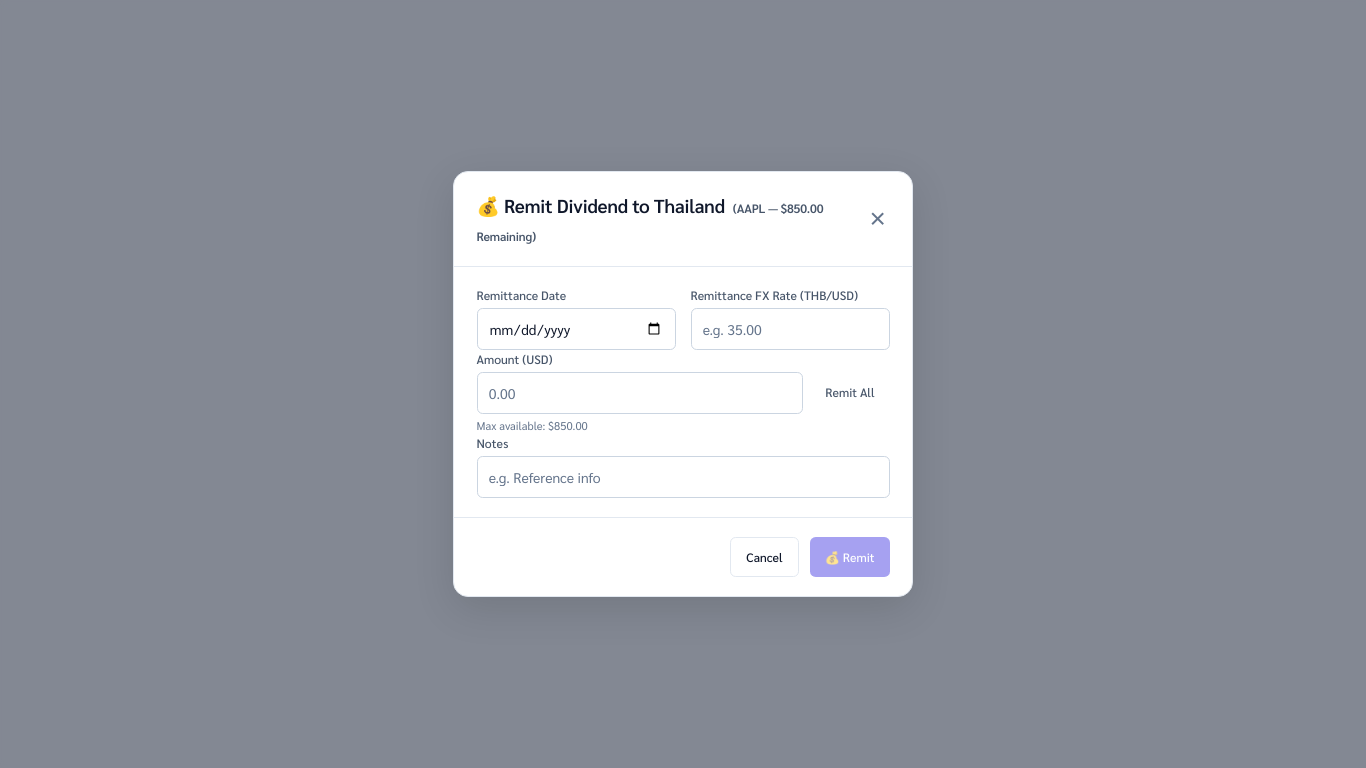
Test case: DividendRemitForm pre-flight and close behaviour › shows the engine reason and does not submit when the amount exceeds the balance
Type "900" into the number field with id "dremit-amount" at point(640, 393), box 476,372 -> 803,414
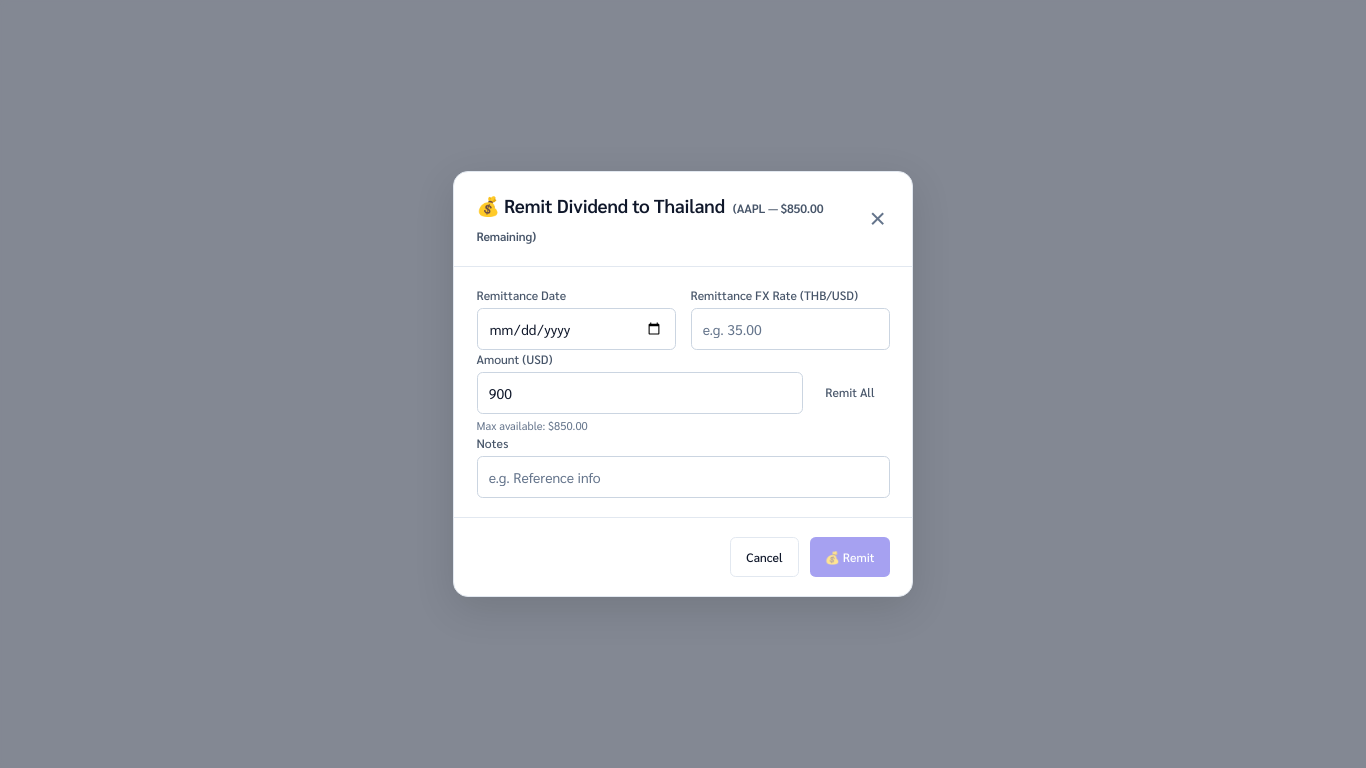
Type "35" into the number field with id "dremit-fx" at point(790, 329), box 690,308 -> 890,350
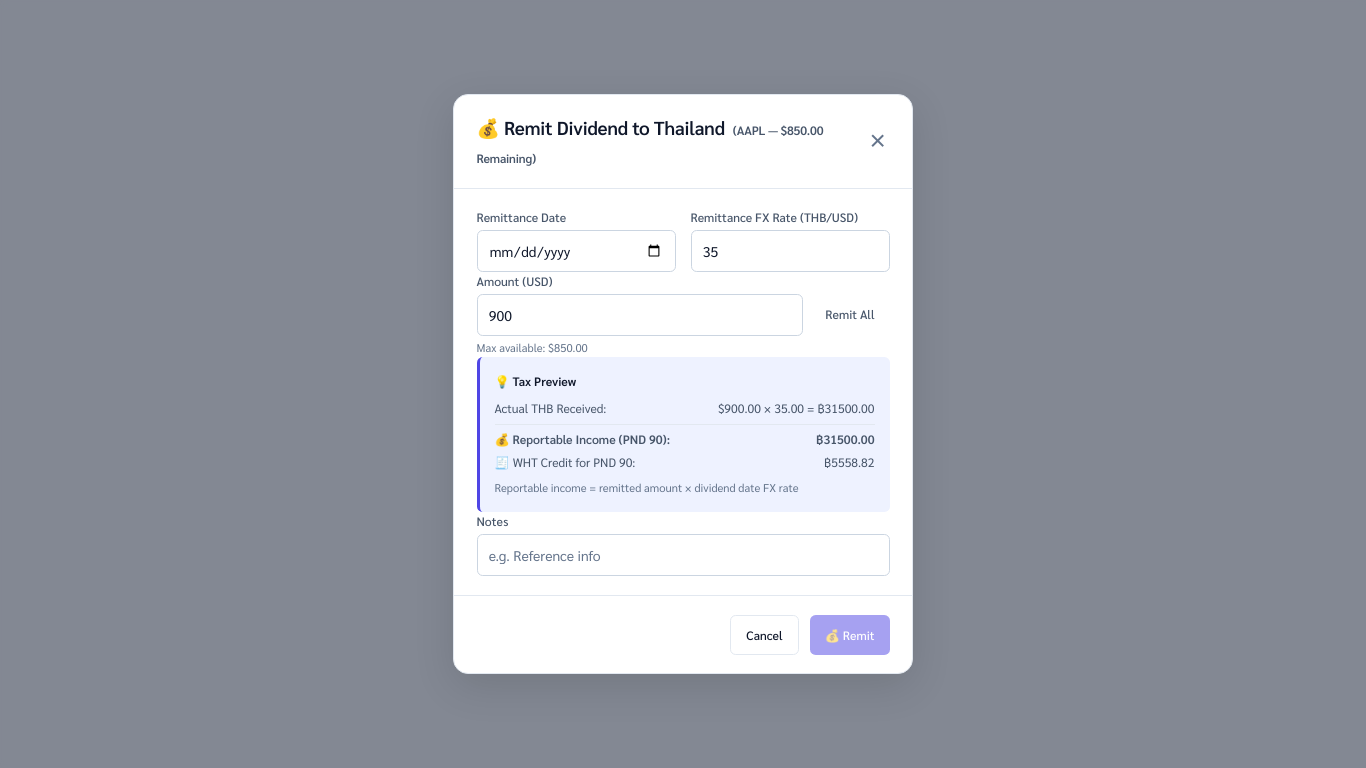
Type "2026-10-10" into the date field with id "dremit-date" at point(576, 251), box 476,230 -> 676,272
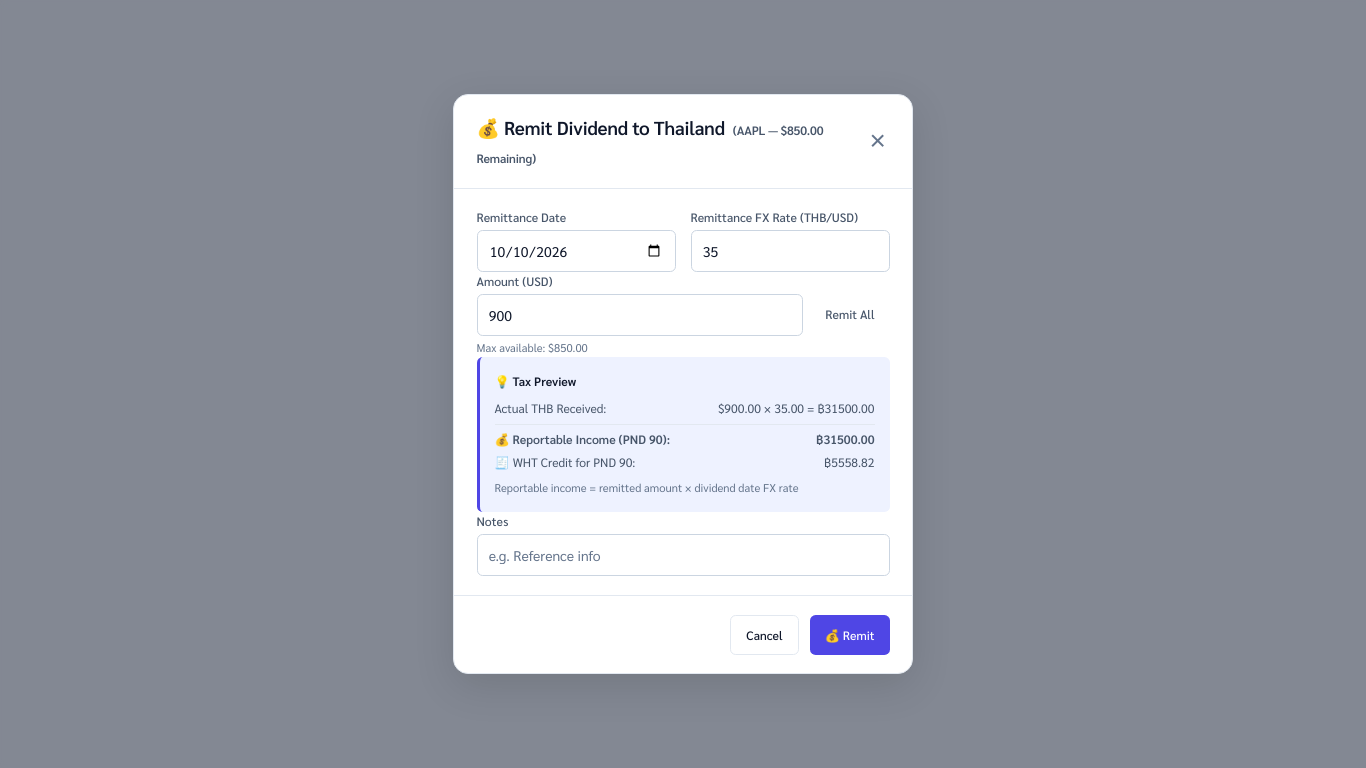
Click the button "💰 Remit" at point(850, 635), box 810,615 -> 890,655
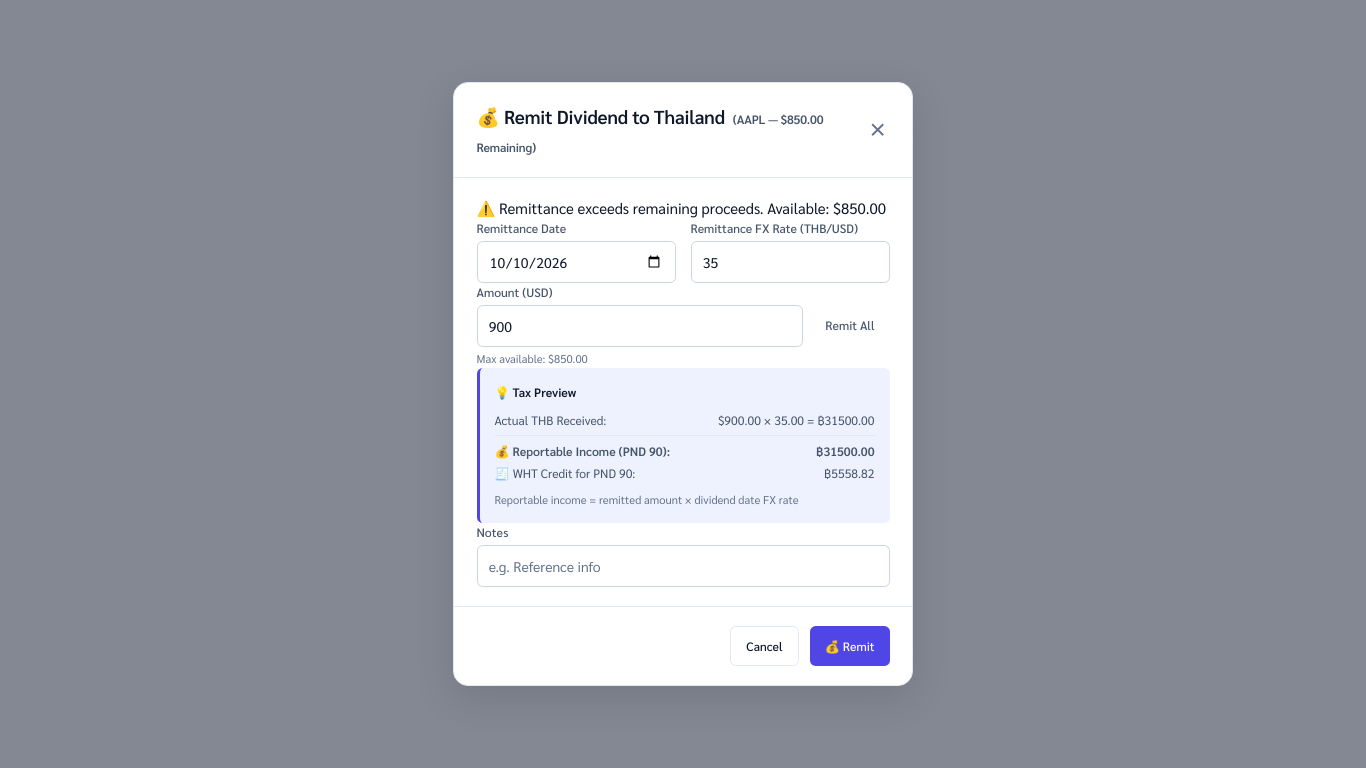
Now the text "⚠️ Remittance exceeds remaining proceeds. Available: $850.00" is shown, box 476,197 -> 890,219
Now the text with class "form-error-banner" shows "850.00", box 499,198 -> 886,217
